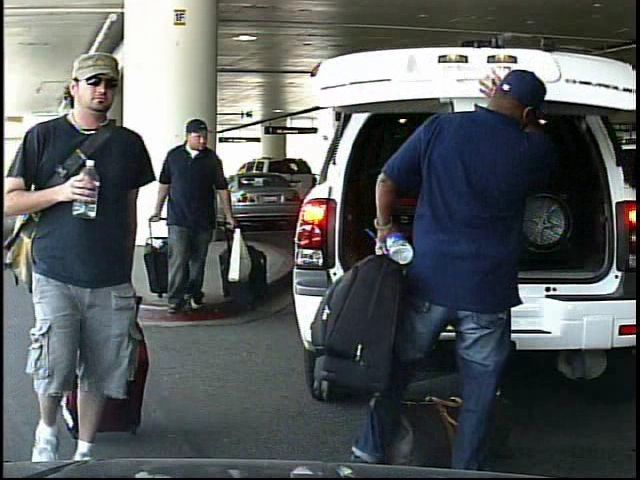person: (355, 74, 541, 476), (10, 58, 176, 480), (163, 115, 247, 318)
